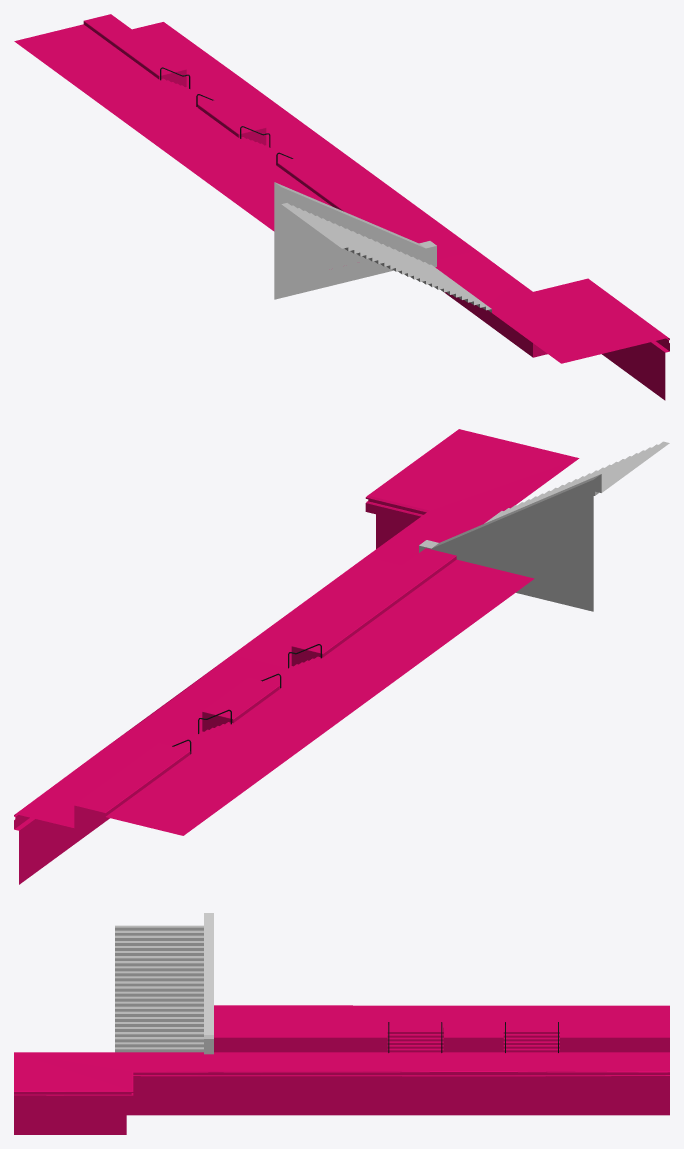
File: Bridge_Walkway.fbx
3 views of the same model, one above another, from view 1: azimuth 30°, elevation 25°; view 2: azimuth 150°, elevation 25°; view 3: azimuth 270°, elevation 25° (orthographic). The views are drawn at different scales.
Visible parts, largest first — view 1: SM_City_Bridge_Walkway_01.mo; view 2: SM_City_Bridge_Walkway_01.mo; view 3: SM_City_Bridge_Walkway_01.mo.
Boxes of the visible parts, left/top/right/bottom form: SM_City_Bridge_Walkway_01.mo: left=14, top=14, right=669, bottom=400; SM_City_Bridge_Walkway_01.mo: left=14, top=429, right=669, bottom=884; SM_City_Bridge_Walkway_01.mo: left=14, top=913, right=669, bottom=1134.
Size of the model in its own units: 1691 by 1128 by 5101.
